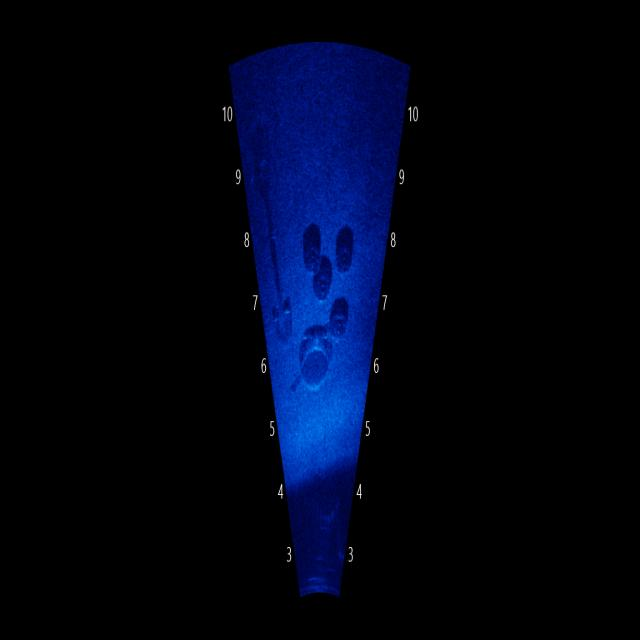circle: (295, 328, 336, 403), (319, 296, 362, 348)
